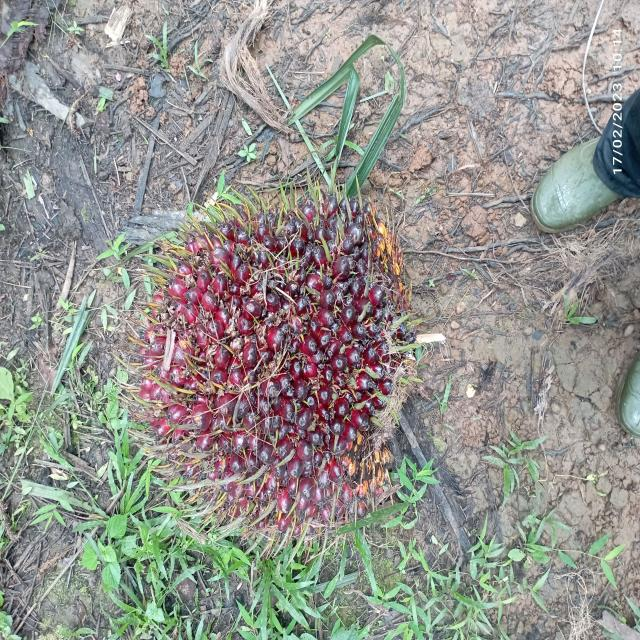fraksi 1: (93, 175, 440, 539)
